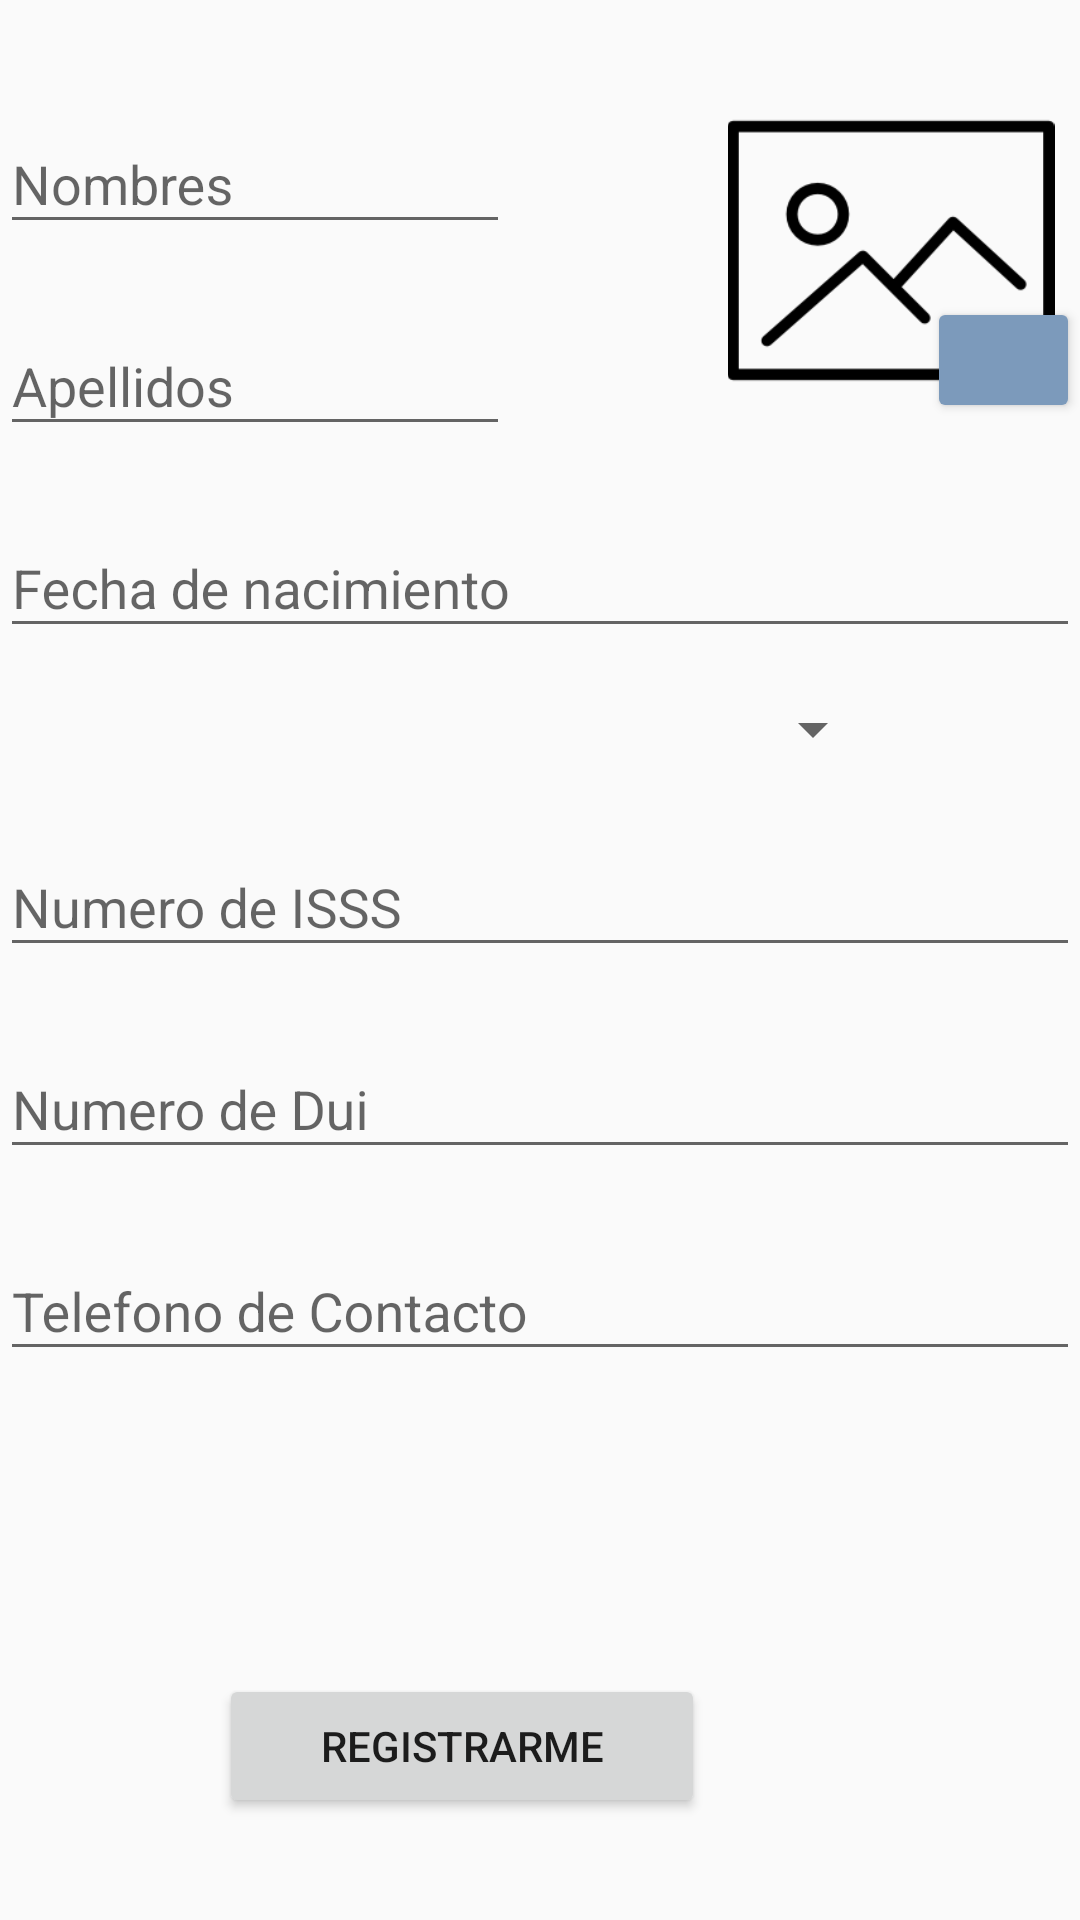

Named icons in this screenshot (1080w x 1920h) and their bounding boxes, (x1, y1, x2, y2):
addimg: (728, 120, 1059, 406)
